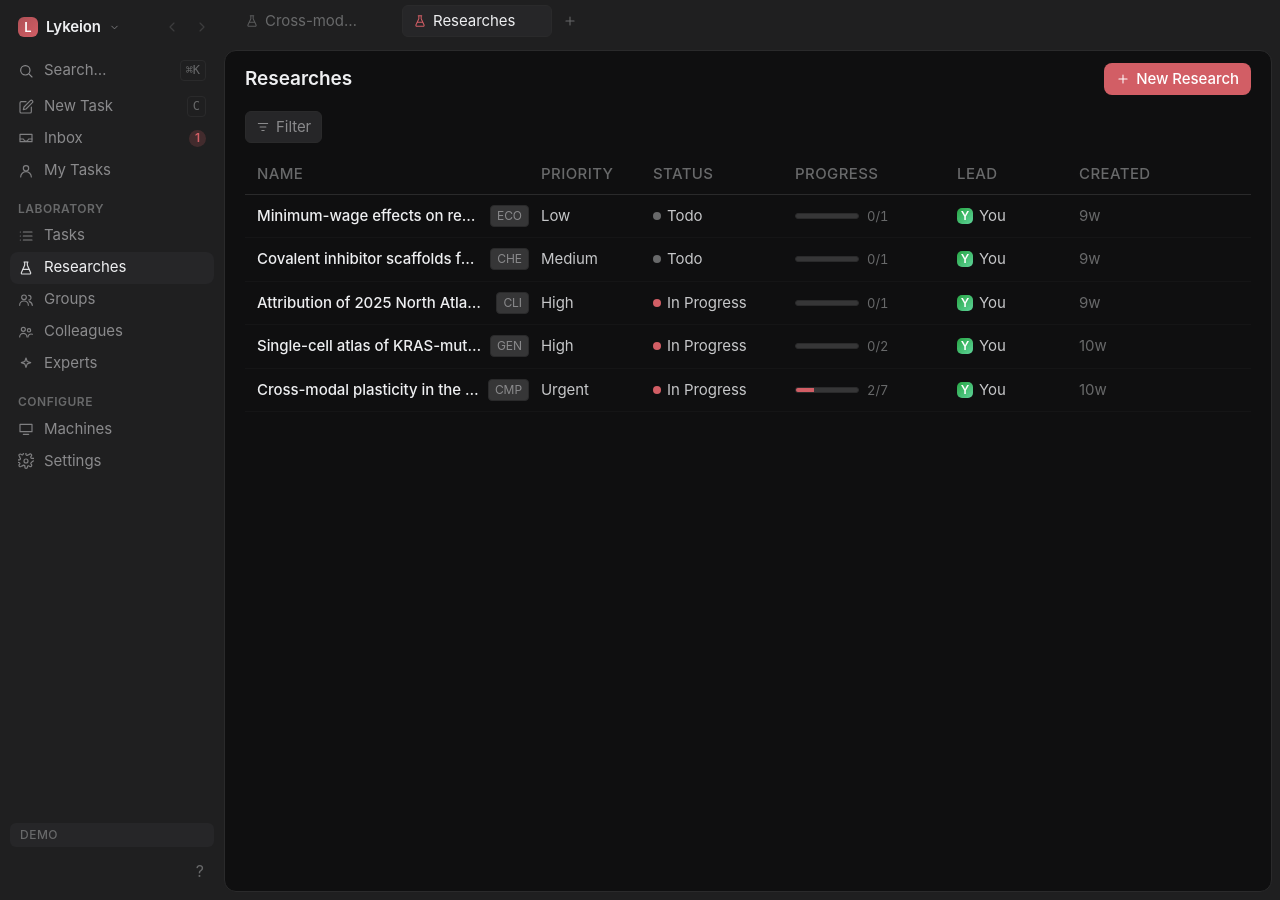
it: Researches list → Research › opens the Research of a research line nobody has run yet
Step 1. Click the link "Minimum-wage effects on regional employment" → (679, 216), box [257,205,1100,227]
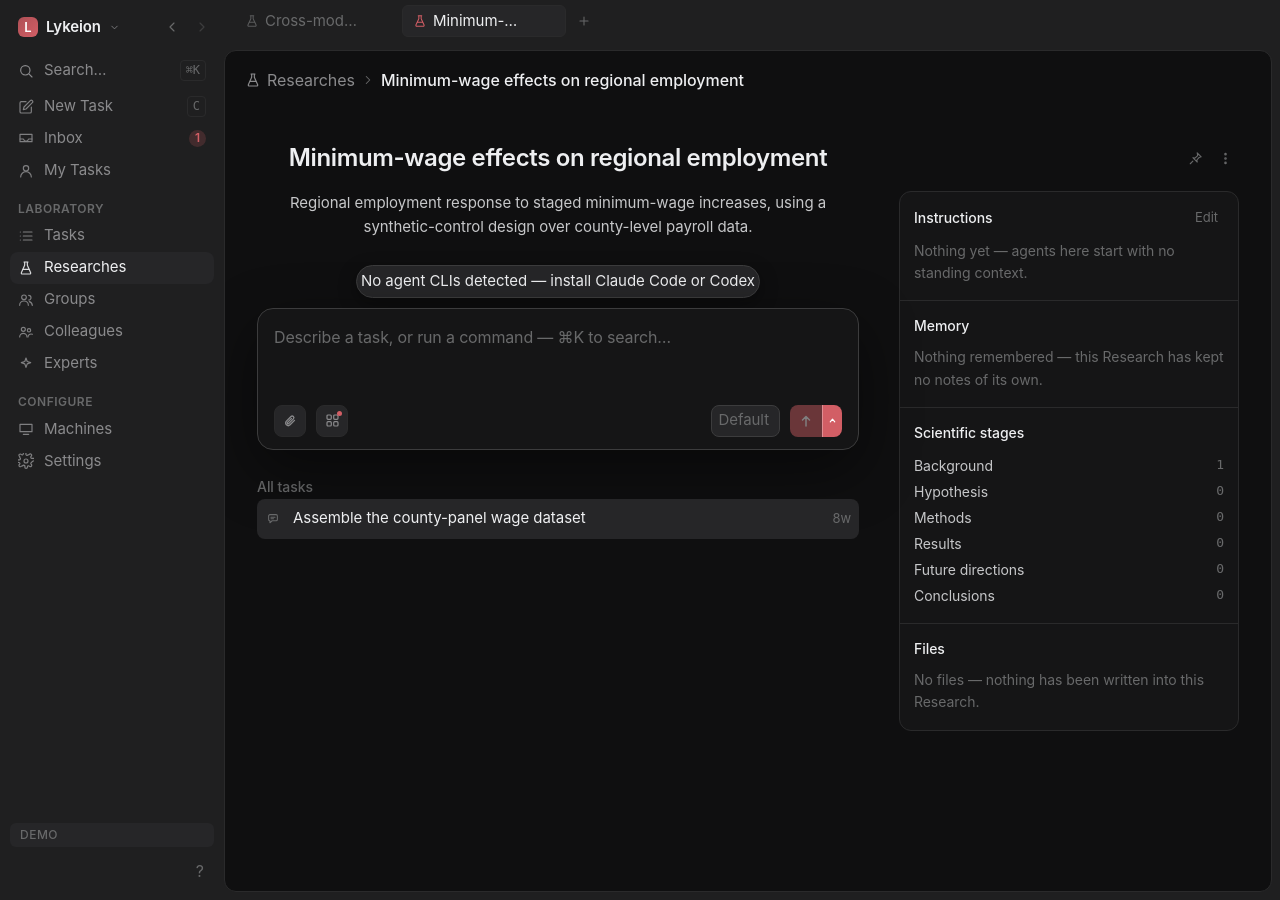
Now the text "Assemble the county-panel wage dataset" is shown, box [293,508,586,527]
